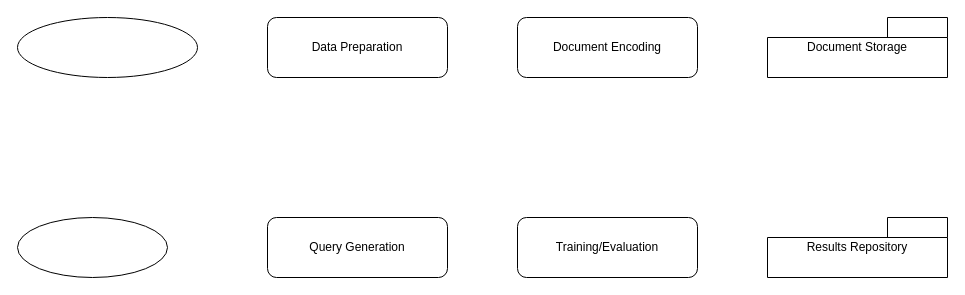
Image size: 965x295. Some labels were removed from this diagram. Each missing label, with the centre of its shape:
"Data Sources (MS MARCO, Natural Questions)" goes at (107,47).
"User (Researcher/Developer)" goes at (92,247).
